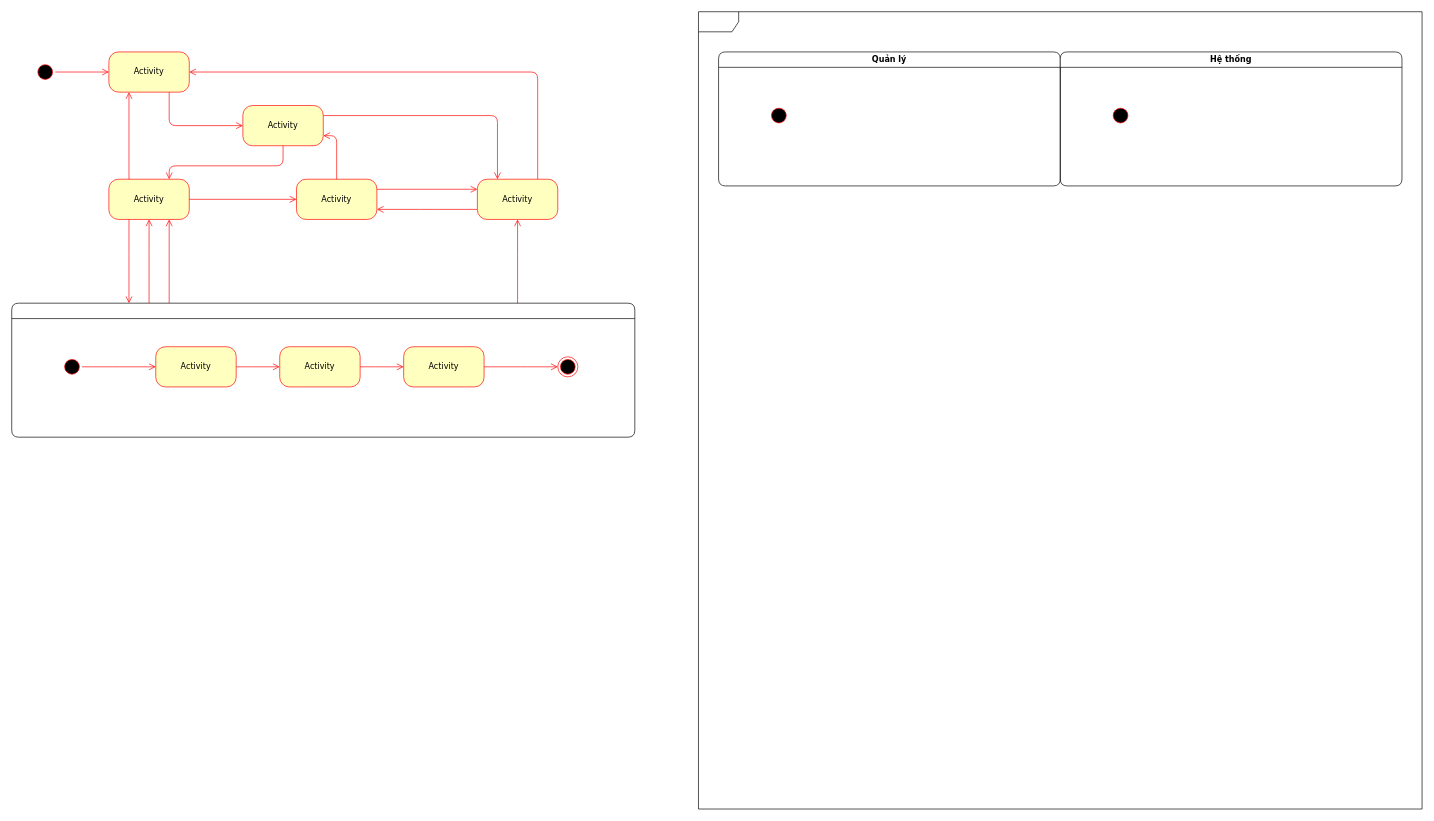
This 1434x821 diagram has some shape labels left out. The shapes that lost their labels are listed below. From the top down, each one's box as (x1, y1, x2, y2) in pixels, then its label:
(11, 303, 635, 437): Container
(698, 11, 1422, 809): frame
